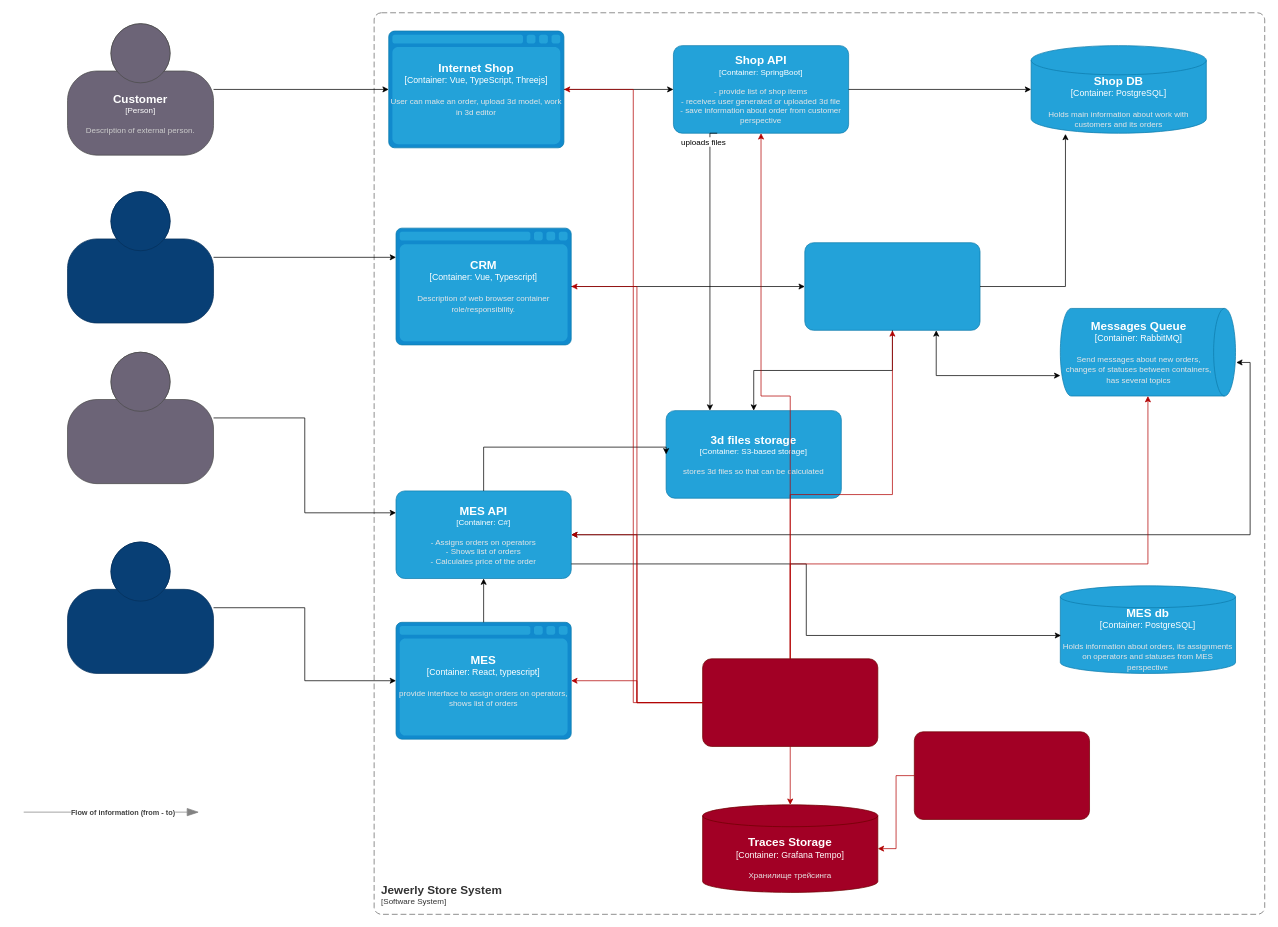
This 1278x927 diagram has some shape labels left out. The shapes that lost their labels are listed below. From the top down, each one's centre as x and y in pixels, then its label:
At [140,257]: "Seller [Person] Operates with order, confirms manufacturing for the user".
At [892,286]: "CRM API [Container: SpringBoot] Description of container role/responsibility.".
At [140,417]: "API user [Person] Description of external person.".
At [140,607]: "Operator [Person] Takes order in work, manufactures jewerly".
At [790,702]: "OpenTelemetry Collector [Container: OpenTelemetry] приём/обработка трейсинга".
At [1002,775]: "Grafana [Container: Grafana] Просмотр".
